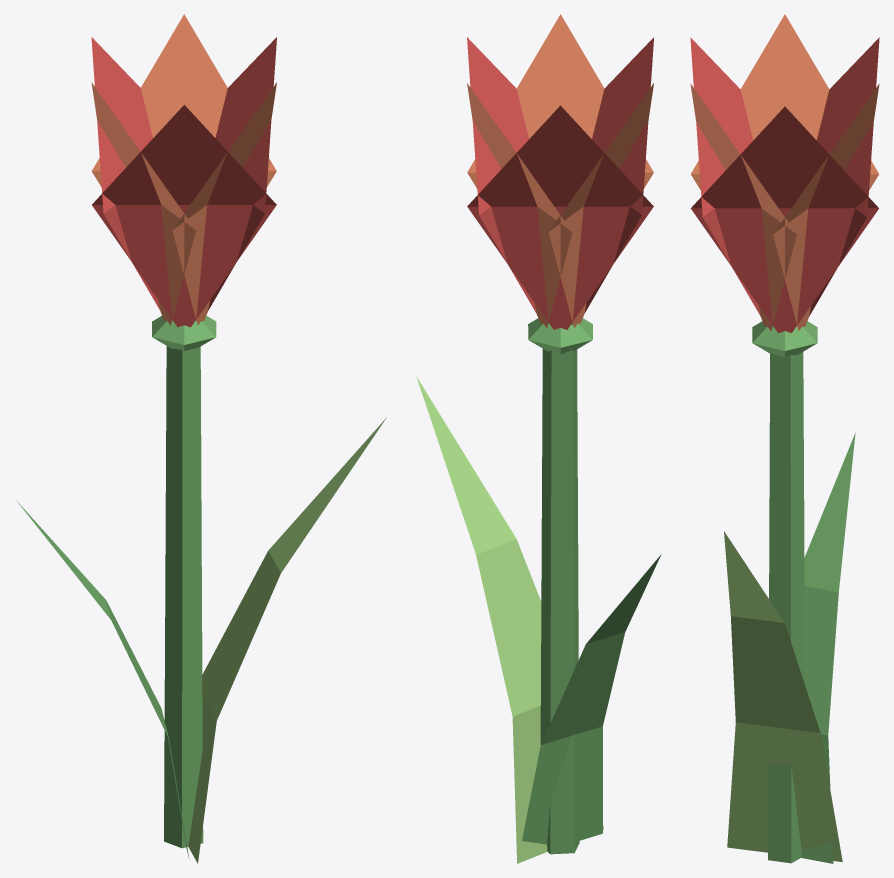
File: deco_tulip.obj
The picture shows the model from 3 angles, left to right: view 1: azimuth 30°, elevation 25°; view 2: azimuth 150°, elevation 25°; view 3: azimuth 270°, elevation 25°; orthographic projection.
Visible parts, largest first — view 1: deco_tulip; view 2: deco_tulip; view 3: deco_tulip.
Boxes of the visible parts, x1,y1,x2,y2 form: deco_tulip: (16, 14, 386, 863); deco_tulip: (416, 14, 661, 863); deco_tulip: (690, 14, 879, 863).
Size of the model in its own units: 0.024 by 0.0581 by 0.0125.
Materials: 1 (1 with a texture image).
